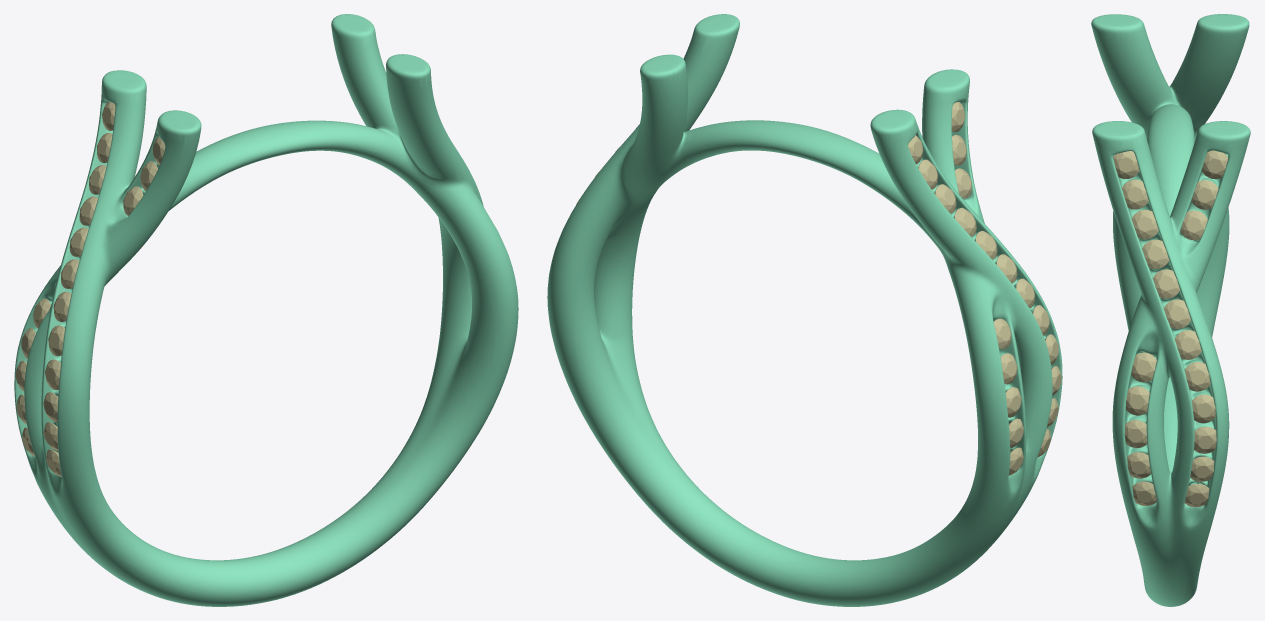
The picture shows the model from 3 angles, left to right: view 1: azimuth 30°, elevation 25°; view 2: azimuth 150°, elevation 25°; view 3: azimuth 270°, elevation 25°; orthographic projection. The views are drawn at different scales.
Visible parts, largest first — view 1: Metal02; view 2: Metal02; view 3: Metal02, Diamond_Gem.021, Diamond_Gem.015, Diamond_Gem.014, Diamond_Gem.008, Diamond_Gem.022, Diamond_Gem.025, Diamond_Gem.026, Diamond_Gem.020, Diamond_Gem.024, Diamond_Gem.023, Diamond_Gem.009 (+9 smaller).
Boxes of the visible parts, bbox=[...] form: Metal02: bbox=[14, 14, 518, 606]; Metal02: bbox=[547, 14, 1062, 606]; Metal02: bbox=[1091, 14, 1250, 606]; Diamond_Gem.021: bbox=[1174, 330, 1201, 359]; Diamond_Gem.015: bbox=[1180, 210, 1207, 240]; Diamond_Gem.014: bbox=[1191, 180, 1218, 209]; Diamond_Gem.008: bbox=[1131, 352, 1156, 382]; Diamond_Gem.022: bbox=[1163, 299, 1190, 328]; Diamond_Gem.025: bbox=[1131, 209, 1158, 239]; Diamond_Gem.026: bbox=[1122, 179, 1148, 209]; Diamond_Gem.020: bbox=[1184, 362, 1210, 391]; Diamond_Gem.024: bbox=[1142, 239, 1169, 268]; Diamond_Gem.023: bbox=[1152, 269, 1179, 298]; Diamond_Gem.009: bbox=[1126, 386, 1149, 415].
Bounding box in the file's own units: 21.22 × 22.64 × 6.42.
